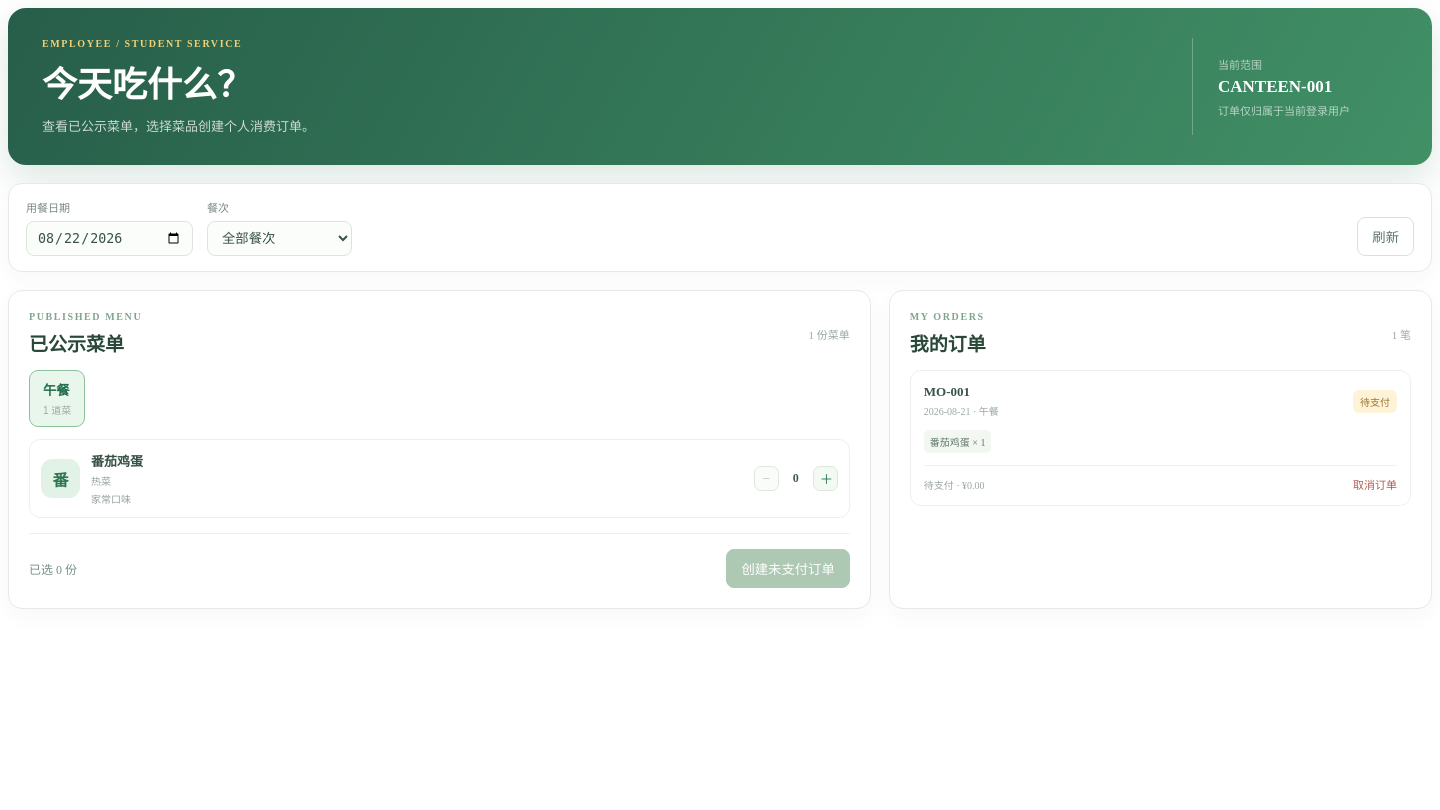
Scenario: DinerWorkspace › cancels only a created personal order and refreshes the list
Click the button with aria-label "取消订单" at coordinates (1375, 484), box [1353,476,1397,492]
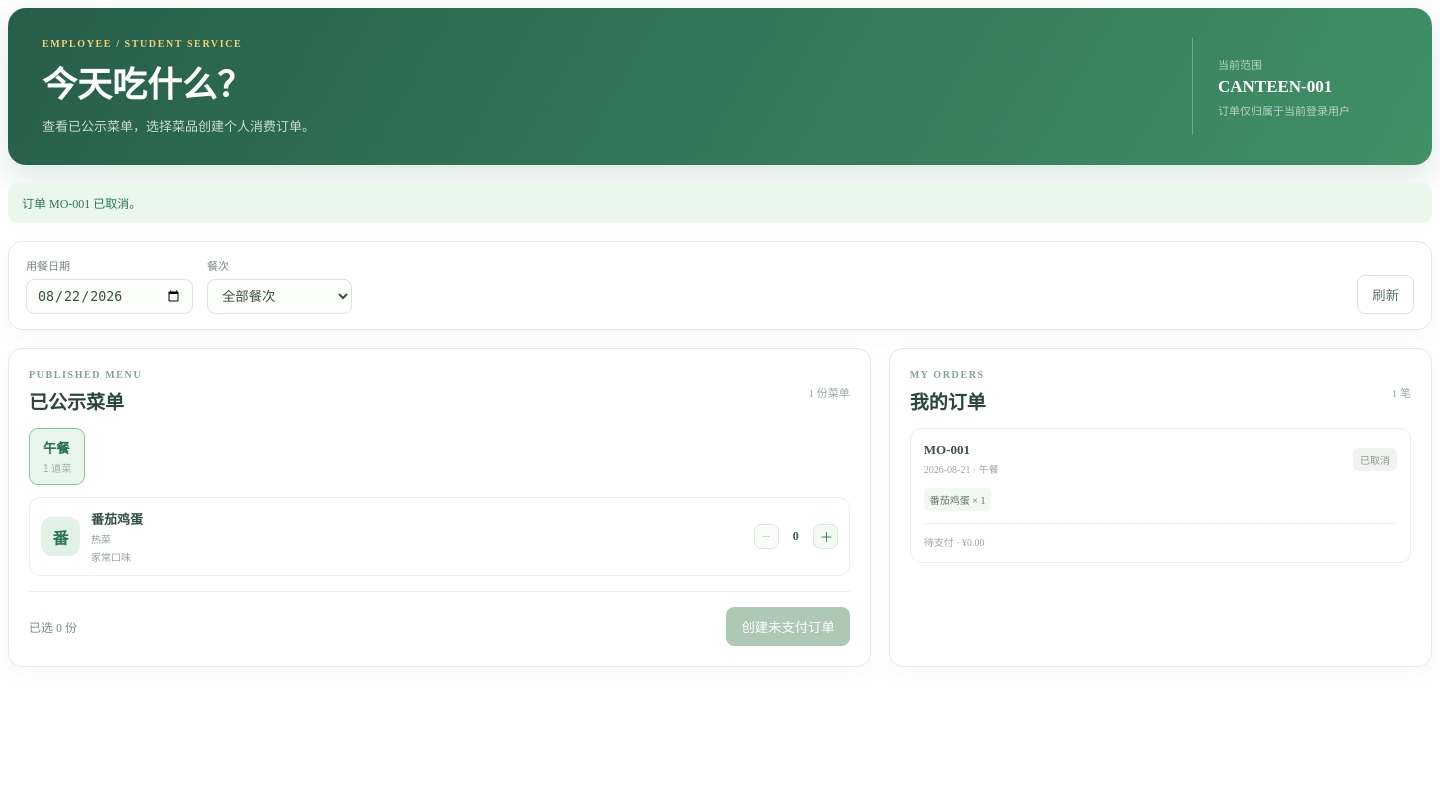
Expected: the text "订单 MO-001 已取消" is shown, [22,197,141,211]
